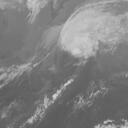cyclone: (59, 6, 120, 59)
